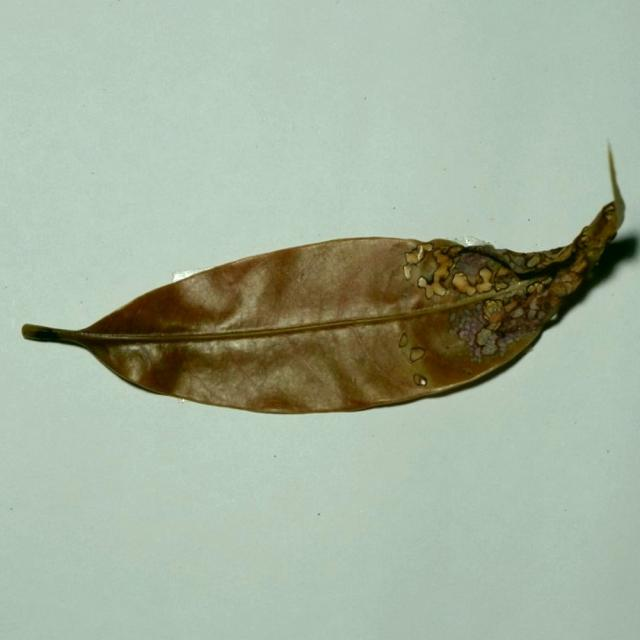Anthracnose: (410, 343, 434, 366), (482, 299, 504, 324), (431, 279, 447, 297), (476, 329, 492, 346), (466, 271, 483, 286), (475, 279, 493, 293), (405, 250, 420, 265), (413, 373, 428, 386), (420, 272, 435, 285), (526, 254, 540, 267), (494, 281, 509, 292), (398, 333, 409, 347), (422, 242, 434, 253), (403, 266, 412, 280)
Mango: (19, 165, 636, 418)
